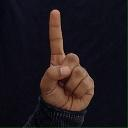hand: (39, 8, 94, 111)
